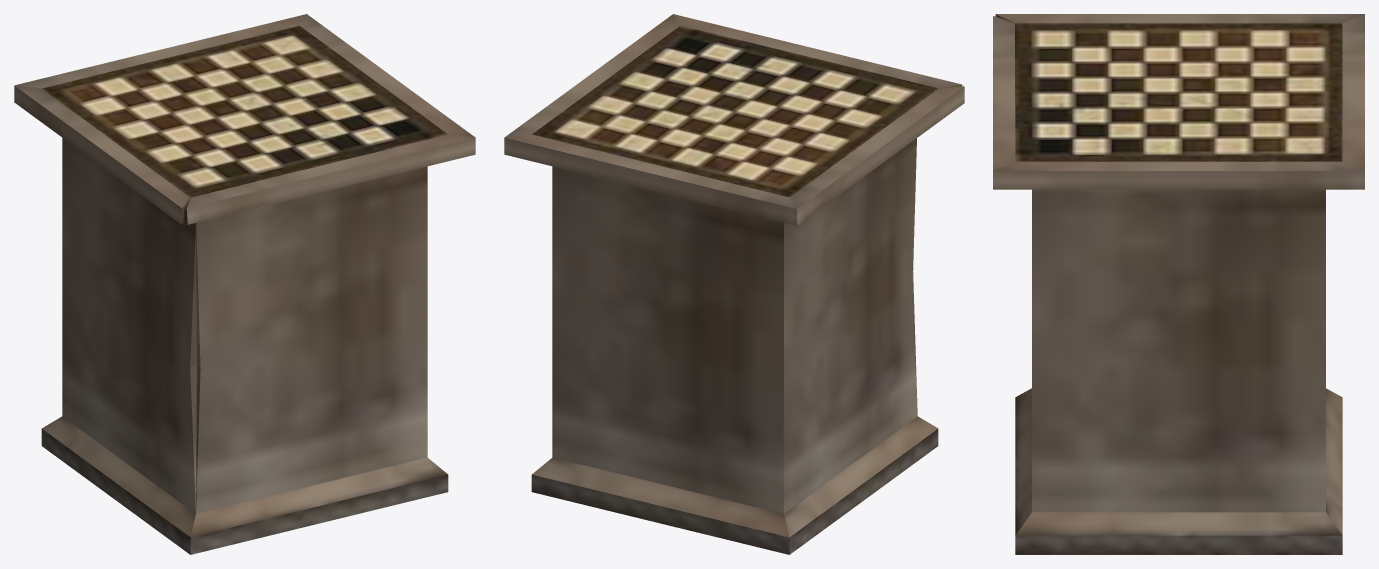
File: TW2_5_FUR_01_26-transformed.glb
The picture shows the model from 3 angles, left to right: view 1: azimuth 30°, elevation 25°; view 2: azimuth 150°, elevation 25°; view 3: azimuth 270°, elevation 25°; orthographic projection. The views are drawn at different scales.
Visible parts, largest first — view 1: default; view 2: default; view 3: default.
Part boxes in pixels (box(x1,y1,x2,y2)): default: box(14, 14, 475, 554); default: box(504, 14, 964, 554); default: box(993, 14, 1364, 554).
Bounding box in the file's own units: 0.5327 × 0.6219 × 0.5327.
2 materials, 2 textured.
